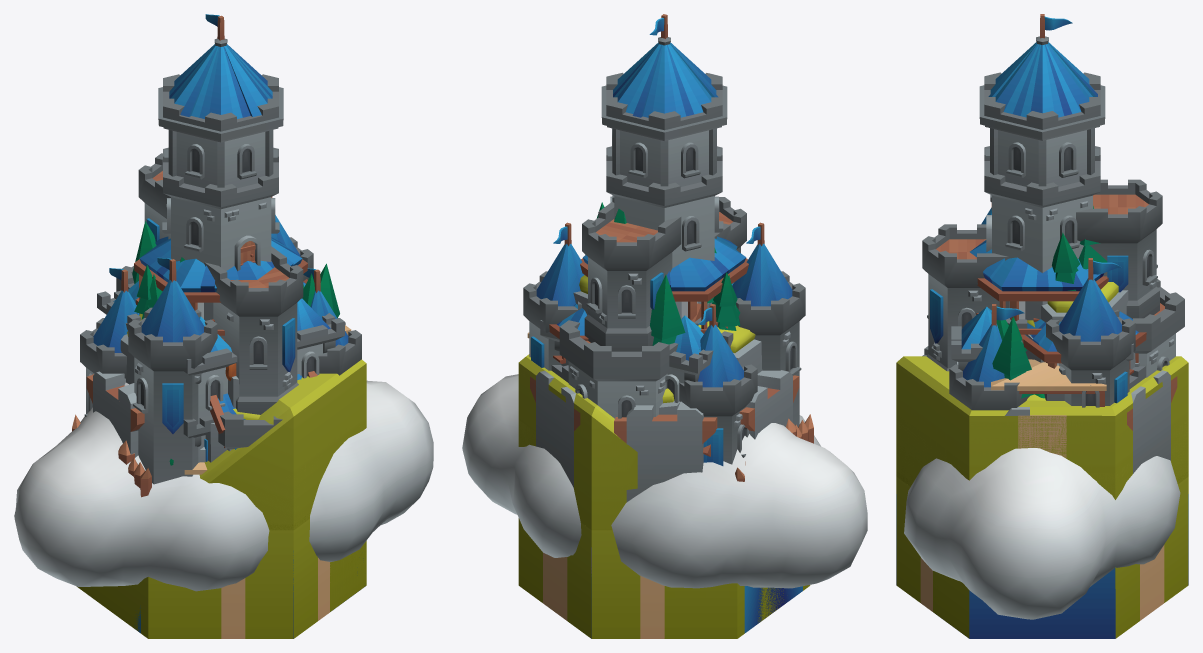
Rendered from hexkit.glb.
The picture shows the model from 3 angles, left to right: view 1: azimuth 30°, elevation 25°; view 2: azimuth 150°, elevation 25°; view 3: azimuth 270°, elevation 25°; orthographic projection.
Parts seen in each view (by area): view 1: building_castle_blue, cloud_big, hex_grass_sloped_high, building_barracks_blue, hex_river_crossing_B, hex_river_B, building_tower_B_top_blue, hex_river_crossing_A, hex_coast_A, hex_road_A_sloped_high, hex_road_G, wall_corner_B_inside (+8 smaller); view 2: building_castle_blue, cloud_big, hex_grass_sloped_high, wall_corner_B_inside, hex_river_crossing_A, hex_road_C, hex_coast_E, wall_corner_B_outside, building_tower_B_top_blue, hex_road_B, building_barracks_blue, hex_river_crossing_B (+10 smaller); view 3: building_castle_blue, cloud_big, hex_road_A_sloped_high, hex_grass_sloped_high, hex_coast_D, building_tower_B_top_blue, hex_river_crossing_B, hex_river_crossing_A, mountain_B_grass_trees, building_scaffolding, wall_corner_A_outside, hex_river_C (+8 smaller).
Part boxes in pixels (x1=…): building_castle_blue: x1=80, y1=14, x2=361, y2=484; cloud_big: x1=14, y1=380, x2=433, y2=591; hex_grass_sloped_high: x1=199, y1=359, x2=366, y2=611; building_barracks_blue: x1=97, y1=281, x2=344, y2=462; hex_river_crossing_B: x1=221, y1=530, x2=293, y2=638; hex_river_B: x1=135, y1=530, x2=293, y2=638; building_tower_B_top_blue: x1=134, y1=236, x2=307, y2=341; hex_river_crossing_A: x1=294, y1=519, x2=330, y2=638; hex_coast_A: x1=76, y1=551, x2=293, y2=638; hex_road_A_sloped_high: x1=200, y1=373, x2=366, y2=610; hex_road_G: x1=258, y1=535, x2=293, y2=638; wall_corner_B_inside: x1=93, y1=371, x2=140, y2=454; building_castle_blue: x1=523, y1=14, x2=805, y2=465; cloud_big: x1=462, y1=374, x2=867, y2=588; hex_grass_sloped_high: x1=518, y1=354, x2=637, y2=530; wall_corner_B_inside: x1=614, y1=375, x2=799, y2=491; hex_river_crossing_A: x1=591, y1=530, x2=664, y2=638; hex_road_C: x1=591, y1=530, x2=638, y2=638; hex_coast_E: x1=664, y1=584, x2=736, y2=638; wall_corner_B_outside: x1=626, y1=370, x2=788, y2=502; building_tower_B_top_blue: x1=580, y1=236, x2=748, y2=333; hex_road_B: x1=543, y1=524, x2=591, y2=638; building_barracks_blue: x1=540, y1=283, x2=733, y2=402; hex_river_crossing_B: x1=543, y1=522, x2=591, y2=635; building_castle_blue: x1=922, y1=14, x2=1184, y2=410; cloud_big: x1=904, y1=448, x2=1180, y2=619; hex_road_A_sloped_high: x1=896, y1=356, x2=1188, y2=499; hex_grass_sloped_high: x1=896, y1=356, x2=1188, y2=608; hex_coast_D: x1=936, y1=494, x2=1188, y2=638; building_tower_B_top_blue: x1=970, y1=240, x2=1108, y2=348; hex_river_crossing_B: x1=1140, y1=477, x2=1188, y2=620; hex_river_crossing_A: x1=896, y1=477, x2=932, y2=611; mountain_B_grass_trees: x1=996, y1=206, x2=1135, y2=400; building_scaffolding: x1=991, y1=359, x2=1106, y2=406; wall_corner_A_outside: x1=1133, y1=376, x2=1177, y2=460; hex_river_C: x1=933, y1=571, x2=969, y2=638.
Size of the model in its own units: 3.61 by 4.98 by 2.31.
Materials: 1 (1 with a texture image).
